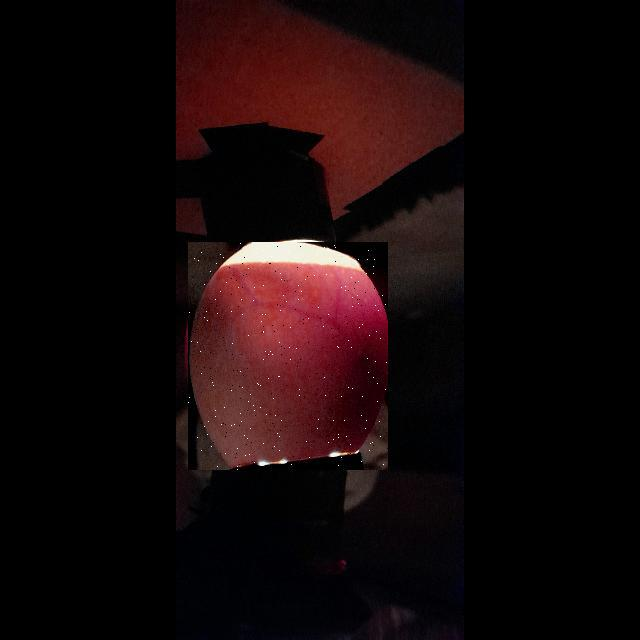Fertile: (188, 242, 388, 470)
